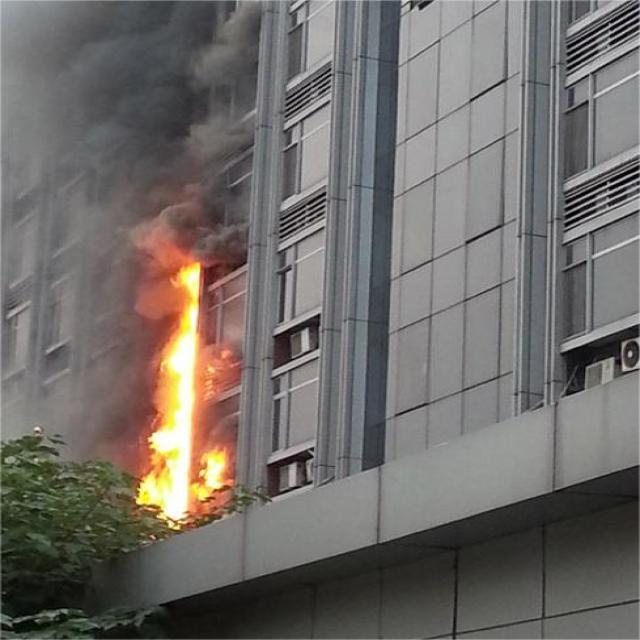Fire: (134, 262, 200, 518), (203, 450, 228, 493)
Smoke: (40, 3, 246, 254)
